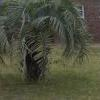Palm tree: (8, 0, 79, 91)
